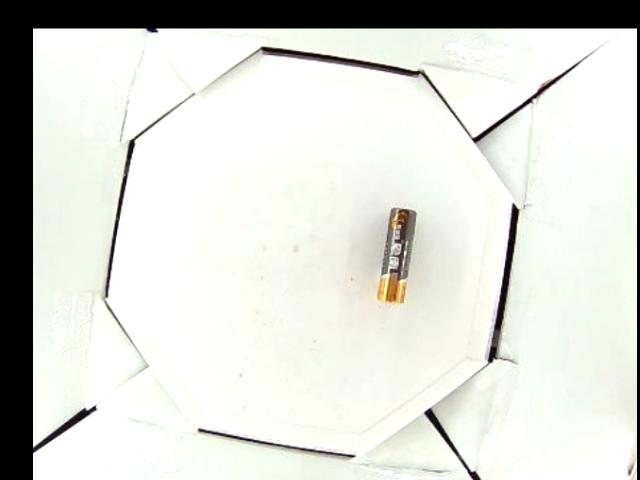Battery: (378, 208, 417, 305)
